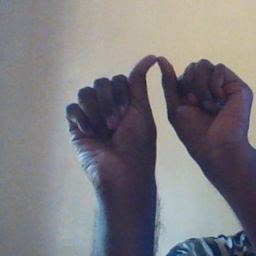A: (63, 53, 255, 181)
